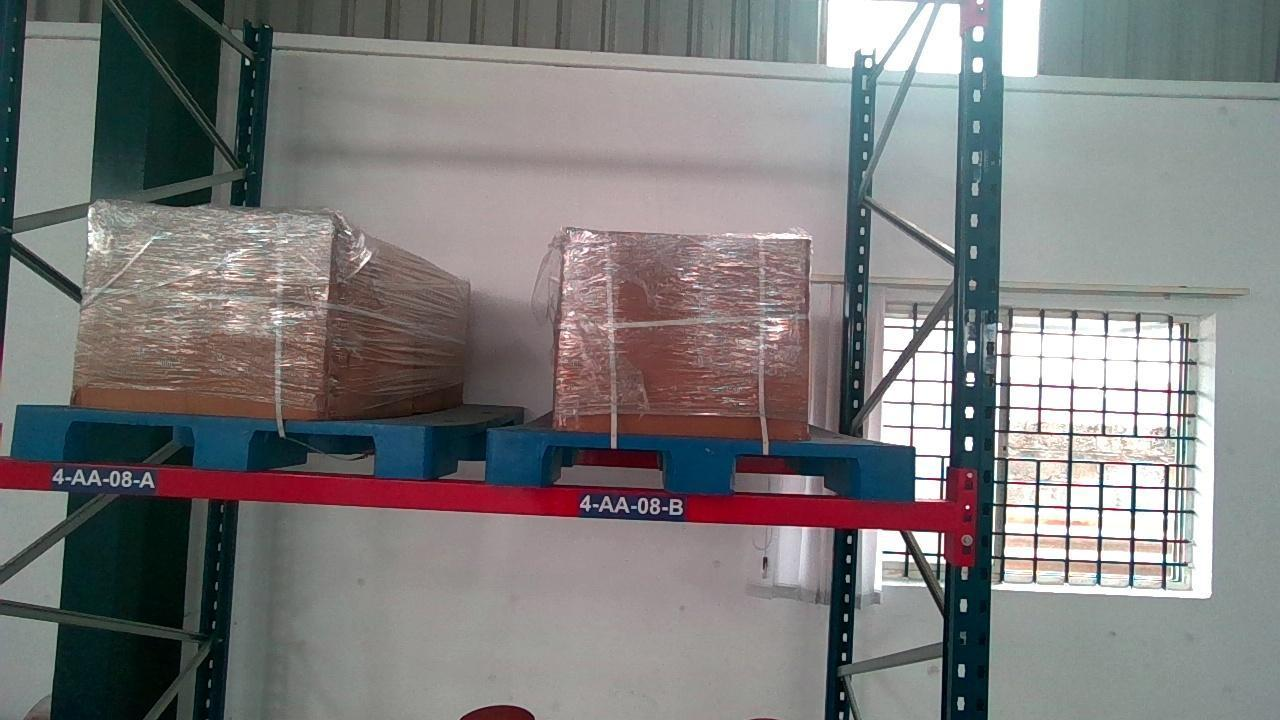h_rack: (0, 461, 957, 526)
small_pallet: (9, 407, 431, 475), (488, 433, 919, 492)
